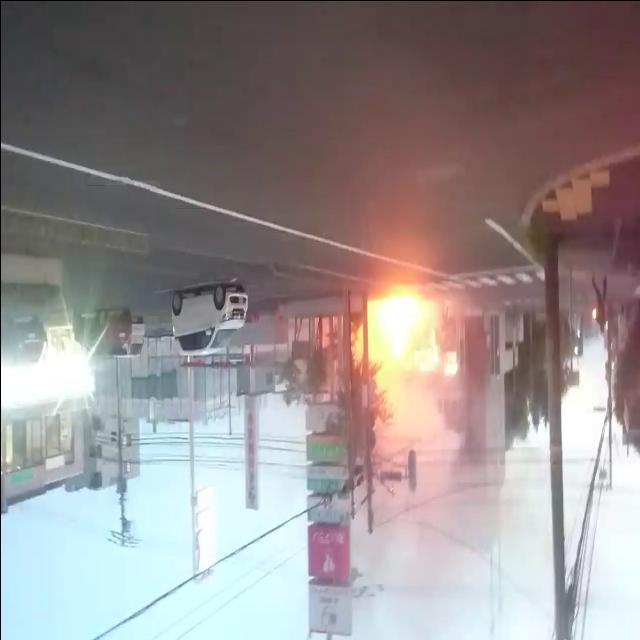Fire: (356, 292, 436, 364)
